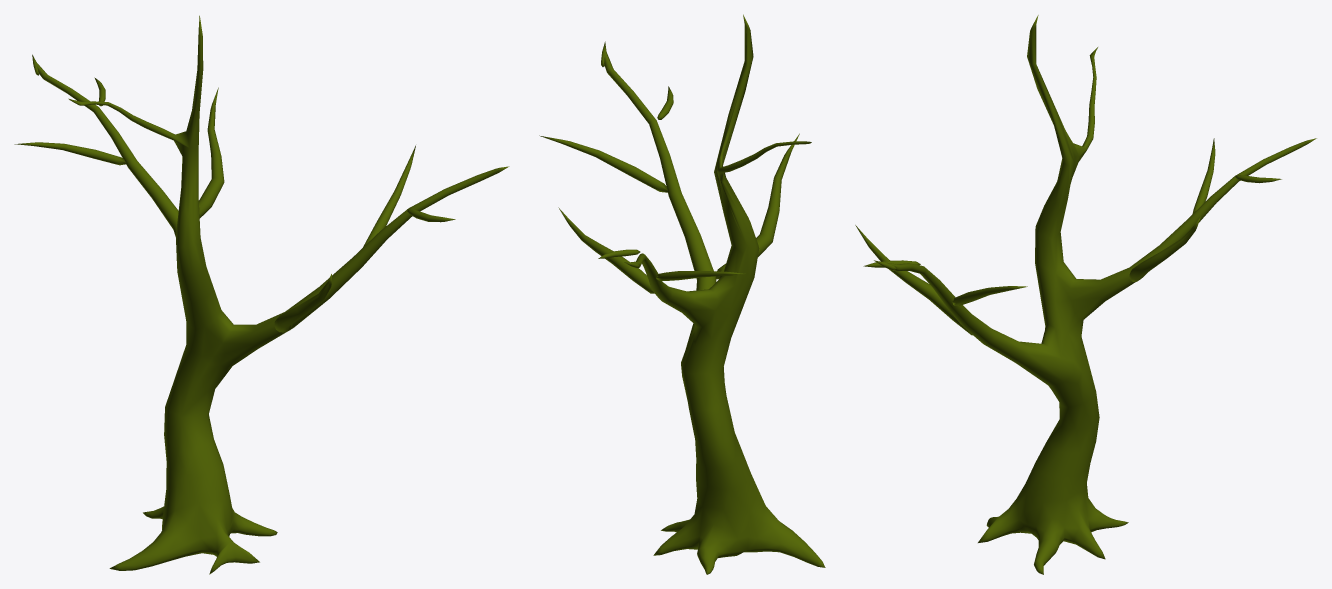
The model's file is rama2.FBX.
3 renders of one model, left to right at view 1: azimuth 30°, elevation 25°; view 2: azimuth 150°, elevation 25°; view 3: azimuth 270°, elevation 25°, orthographic. The views are drawn at different scales.
Parts seen in each view (by area): view 1: Line01; view 2: Line01; view 3: Line01.
Boxes of the visible parts, <box> form: Line01: <box>14,15,509,574</box>; Line01: <box>539,14,825,574</box>; Line01: <box>855,15,1316,574</box>.
Size of the model in its own units: 37.06 by 58.77 by 47.16.
